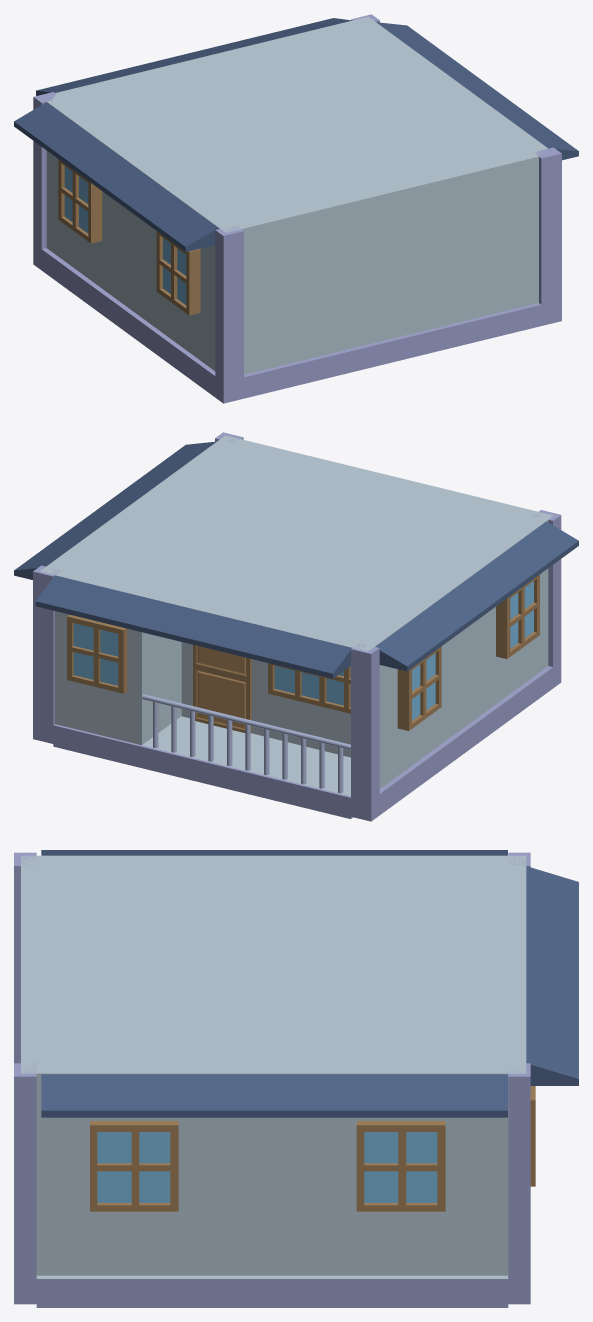
The model's file is Blue Building 2.fbx.
3 views of the same model, one above another, from view 1: azimuth 30°, elevation 25°; view 2: azimuth 150°, elevation 25°; view 3: azimuth 270°, elevation 25° (orthographic). The views are drawn at different scales.
Visible parts, largest first — view 1: Cube.071; view 2: Cube.071; view 3: Cube.071.
Part boxes in pixels (box(x1,y1,x2,y2)): Cube.071: box(14, 14, 578, 403); Cube.071: box(14, 432, 578, 821); Cube.071: box(14, 850, 578, 1307).
Bounding box in the file's own units: 958 × 396 × 877.
